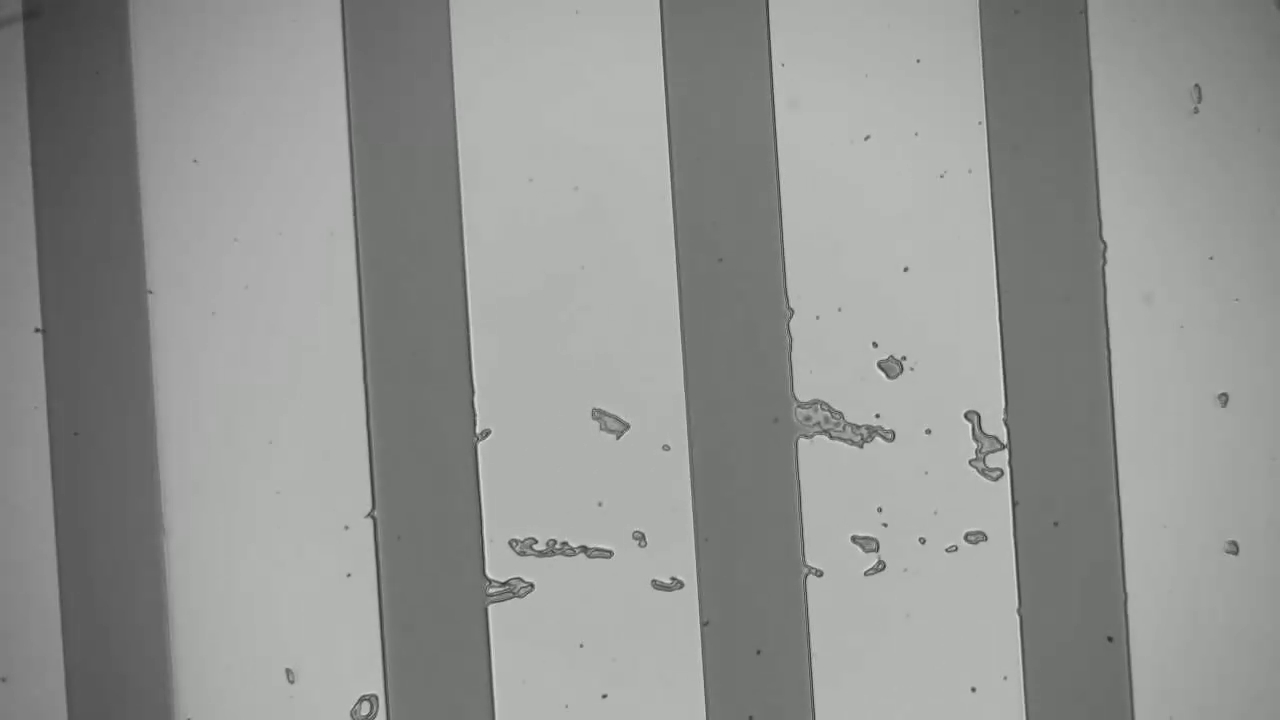edge_bite: (1093, 228, 1119, 264), (778, 296, 804, 327)
